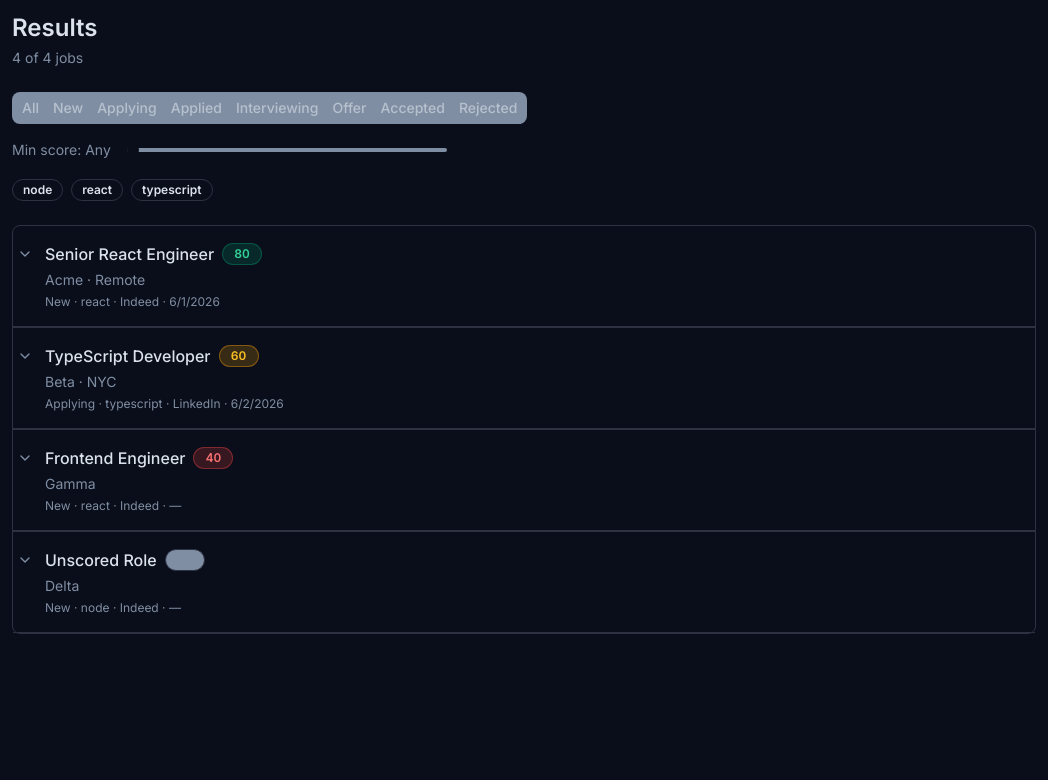
Test case: ResultsScreen › filters jobs by keyword chips
Check: the heading "TypeScript Developer" is shown, box top-left (45, 344), bottom-right (211, 368)
Click the button "typescript". click: (172, 188)
box: top-left (131, 176), bottom-right (212, 201)
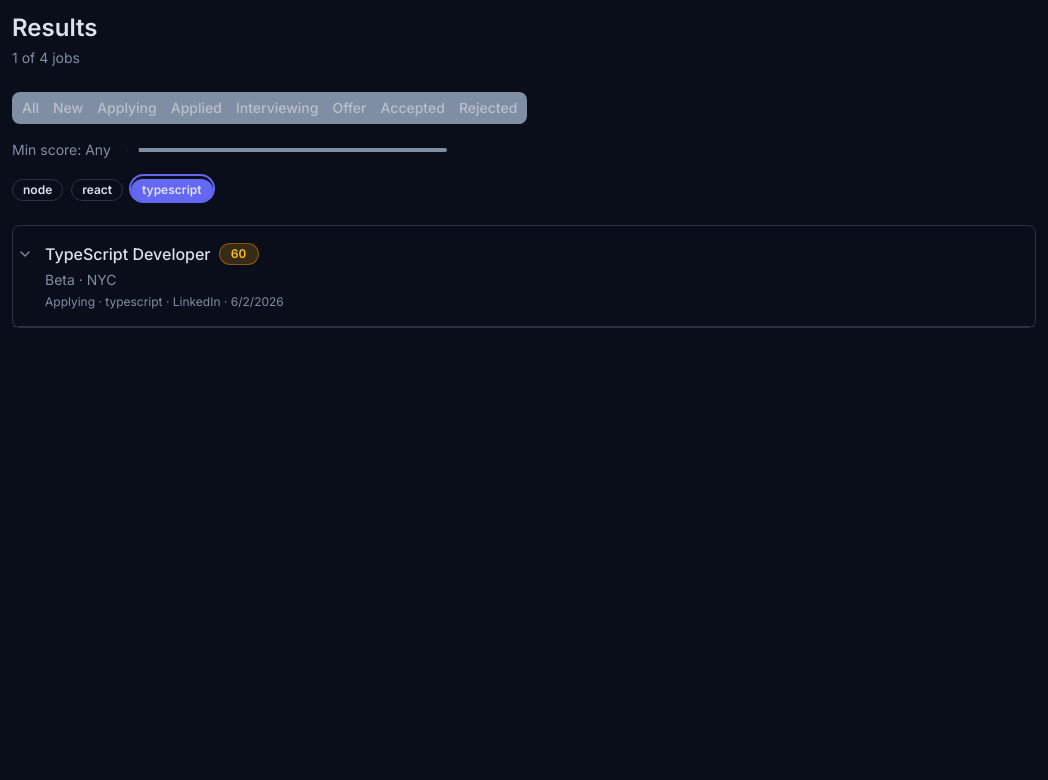
Check: the heading "TypeScript Developer" is shown, box top-left (45, 242), bottom-right (211, 266)
Check: the text "1 of 4 jobs" is shown, box top-left (12, 49), bottom-right (80, 66)
Check: the button "Senior React Engineer" is gone
